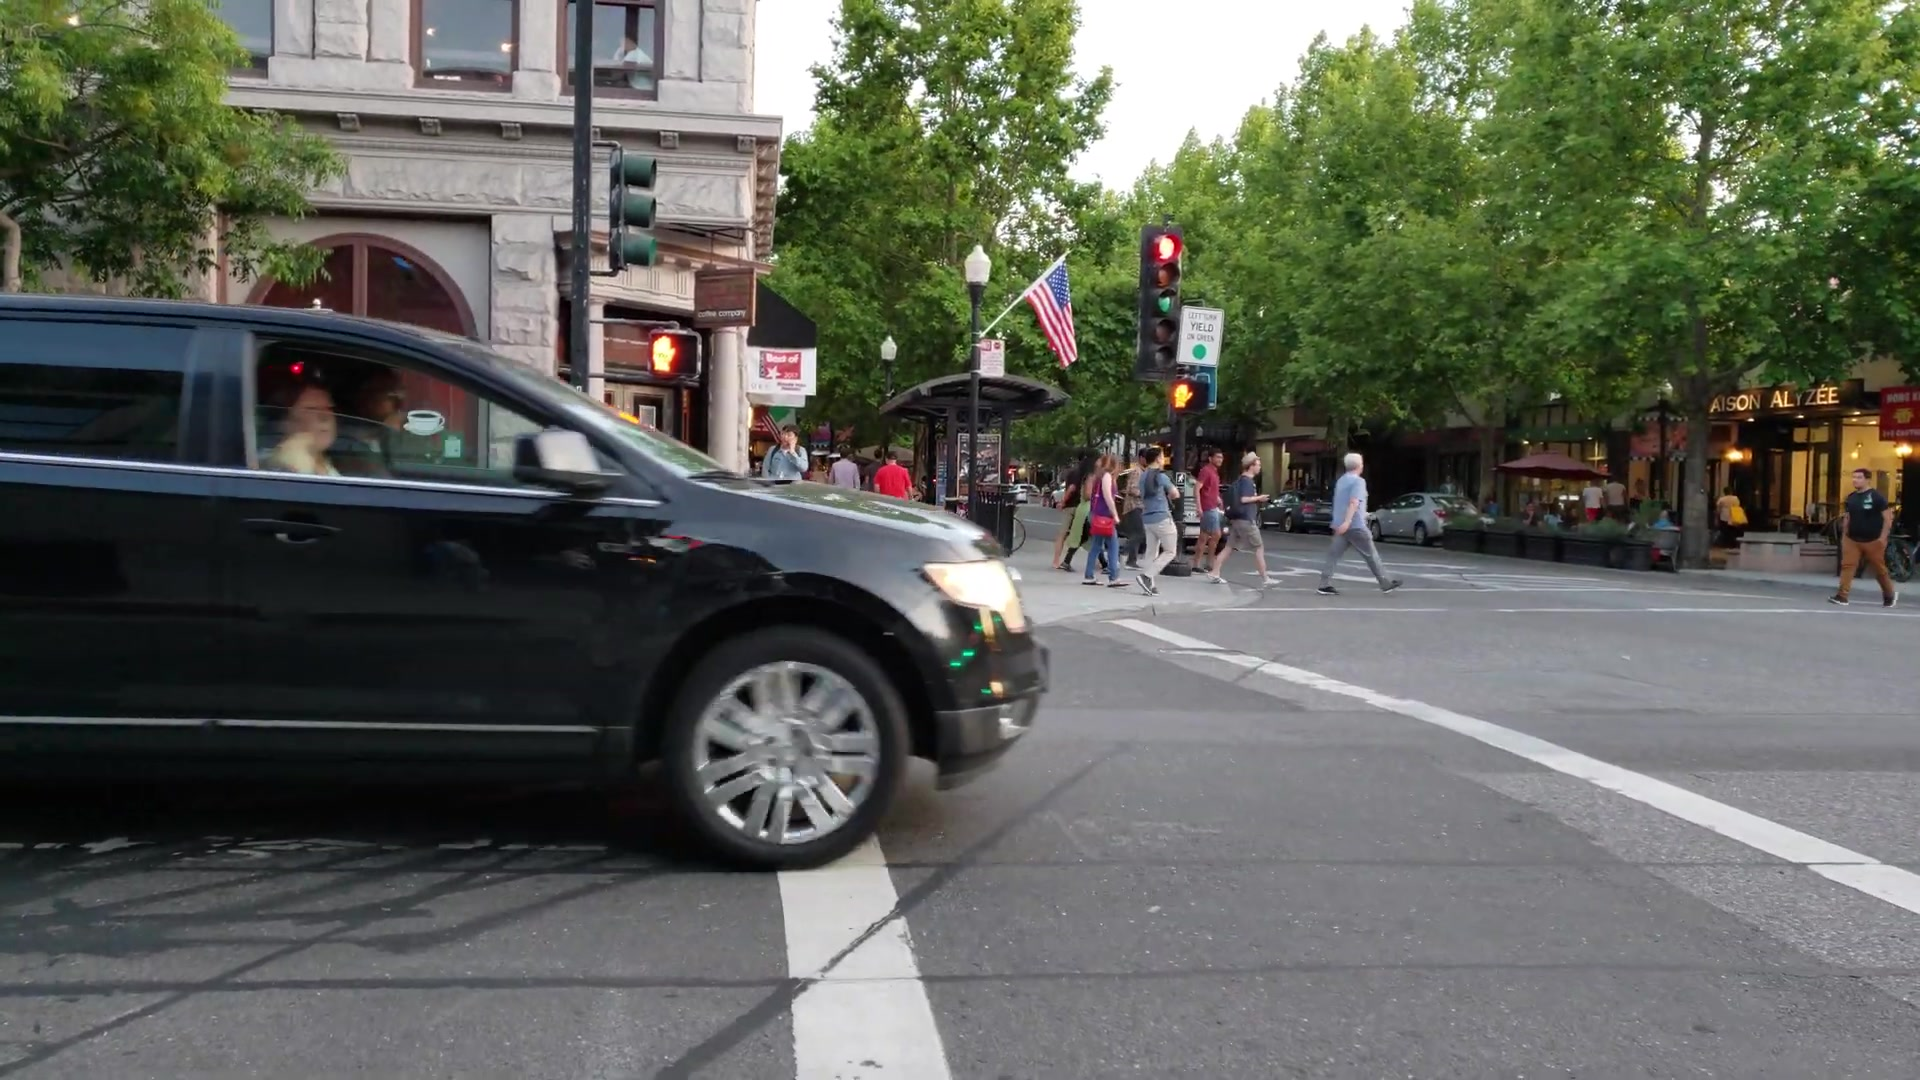vehicle: (1, 291, 1054, 877)
